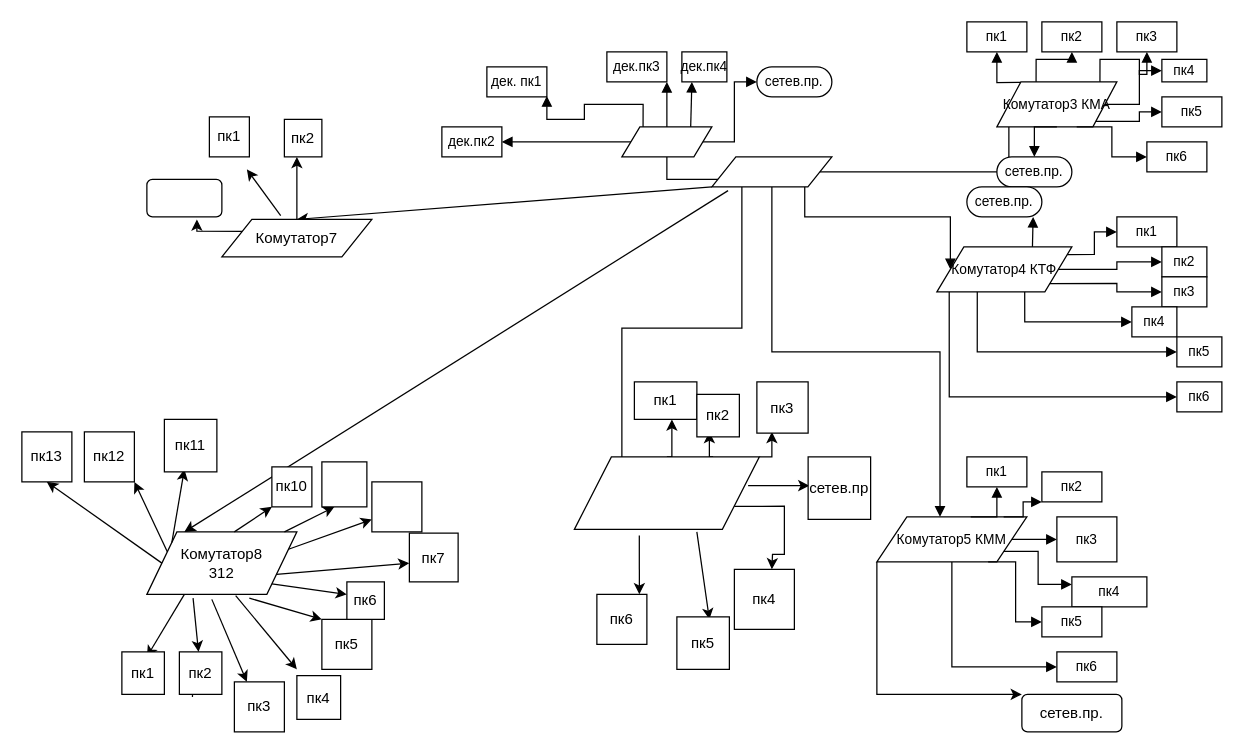
Some shapes in this 1244 by 754 pixel diagram are drawn without their labels. Here are the shapes that lost their labels. From the top down, the box of each, then its label:
(621, 126, 712, 157): Комутатор 2
(711, 156, 832, 187): Комутатор1
(146, 178, 222, 217): сет.пр.
(321, 461, 367, 507): пк9
(573, 456, 759, 529): Комутатор6 КАТМА
(371, 481, 422, 532): пк8
